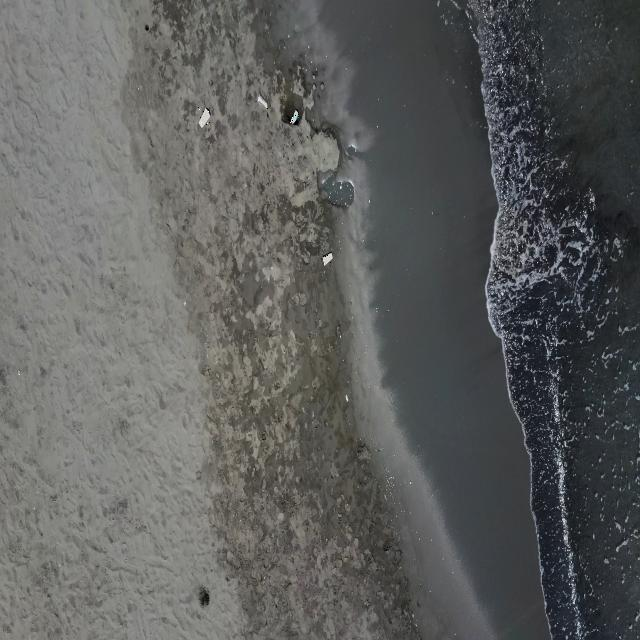takeaway-cup: (198, 107, 210, 129), (257, 92, 268, 109), (290, 108, 300, 126), (322, 252, 333, 267)
